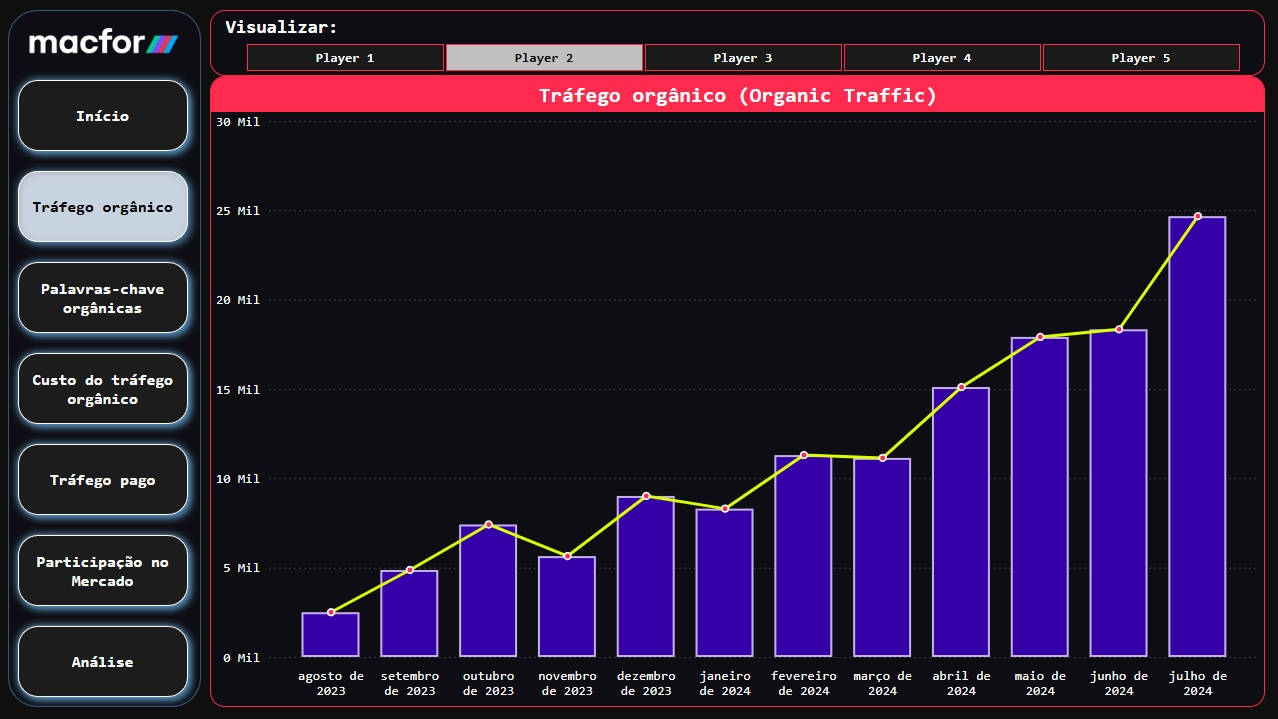

This screenshot's page, from the dashboard's own definition file:
{"tool":"powerbi","page":{"name":"Tráfego orgânico","canvas":[1280,720],"ordinal":1},"visuals":[{"type":"lineClusteredColumnComboChart","title":"Tráfego orgânico (Organic Traffic)","fields":{"Category":["Organic traffic (Organic traffic).Data"],"Series":["Organic traffic (Organic traffic).Player"],"Y":["Sum(Organic traffic (Organic traffic).Valor)"],"Y2":["Sum(Organic traffic (Organic traffic).Valor)"]},"box":[211,77,1055,631],"z":1000},{"type":"slicer","title":"Visualizar:","fields":{"Values":["Organic traffic (Organic traffic).Player"]},"box":[211,11,1055,66],"z":2000},{"type":"shape","box":[9,11,193,697],"z":3000},{"type":"pageNavigator","box":[9,71,190,637],"z":4000},{"type":"image","box":[12,19,187,53],"z":5000}]}

Visuals, with their boxes in screenshot pixels (x1, y1, x2, y2), scaled from the page's 1280x720 canvas onto the 1278x719 screenshot:
"Tráfego orgânico (Organic Traffic)" lineClusteredColumnComboChart: (211, 77, 1264, 707)
"Visualizar:" slicer: (211, 11, 1264, 77)
shape: (9, 11, 202, 707)
pageNavigator: (9, 71, 199, 707)
image: (12, 19, 199, 72)
